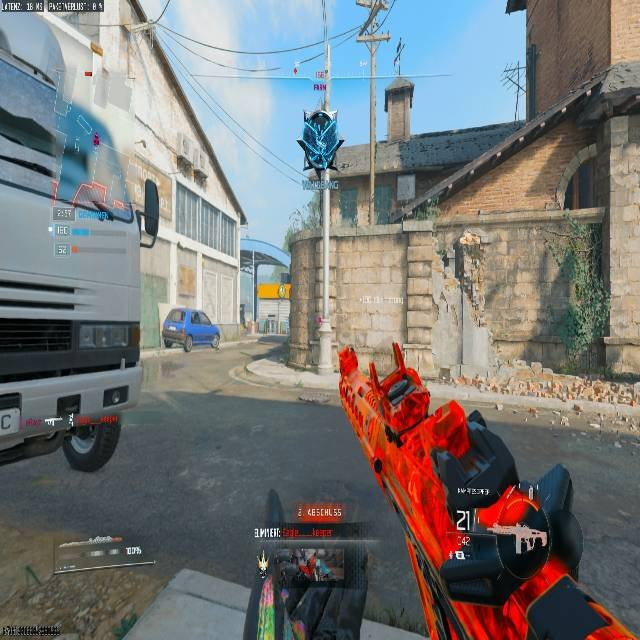head: (313, 107, 331, 125)
player: (297, 107, 342, 186)
